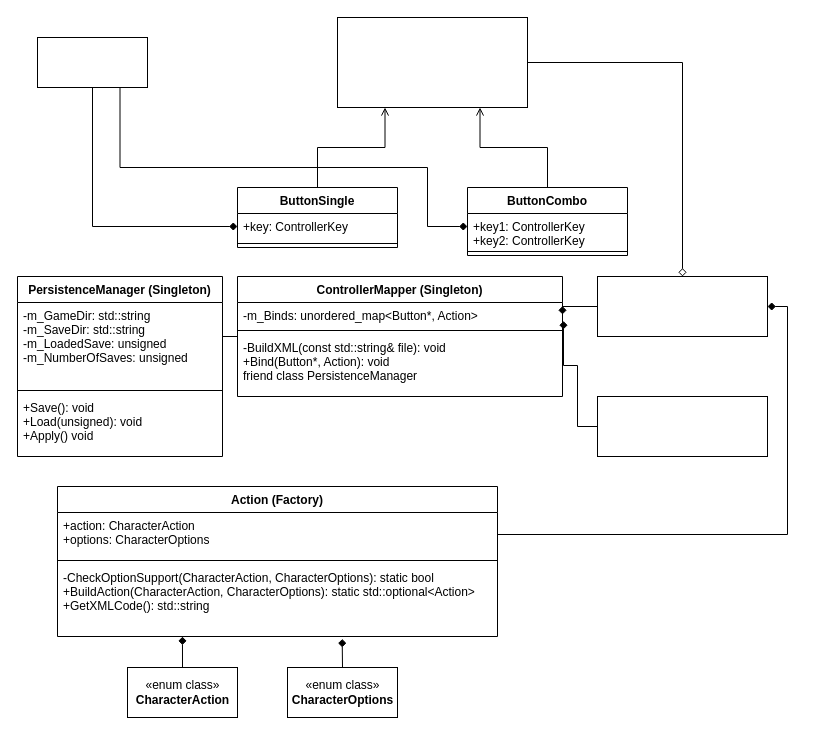
This 813x735 diagram has some shape labels left out. The centre of each missing label's shape, as x and y in pixels:
"<<abstract>> Button +GetXMLName(): std::string +SetXMLName(): std::string" goes at (432,62).
"unordered_map <Button*, Action>" goes at (682,306).
"vector <std::string>" goes at (682,426).
"«enum class» ControllerKey" goes at (92,62).
